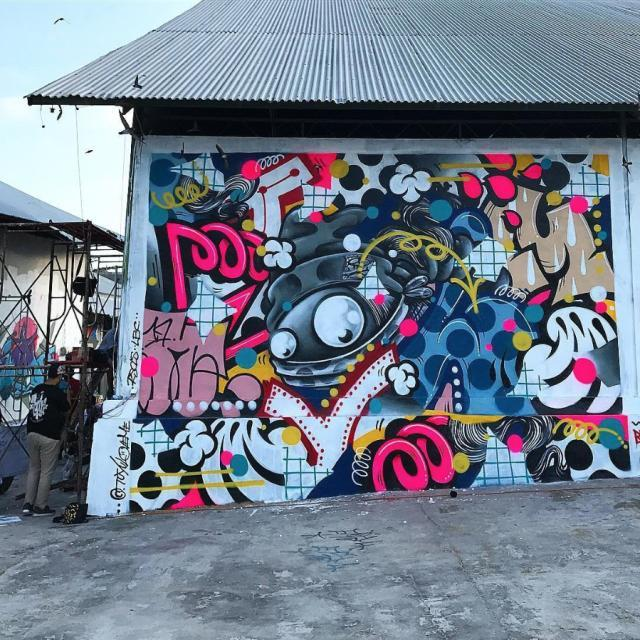-: (134, 148, 632, 512)
